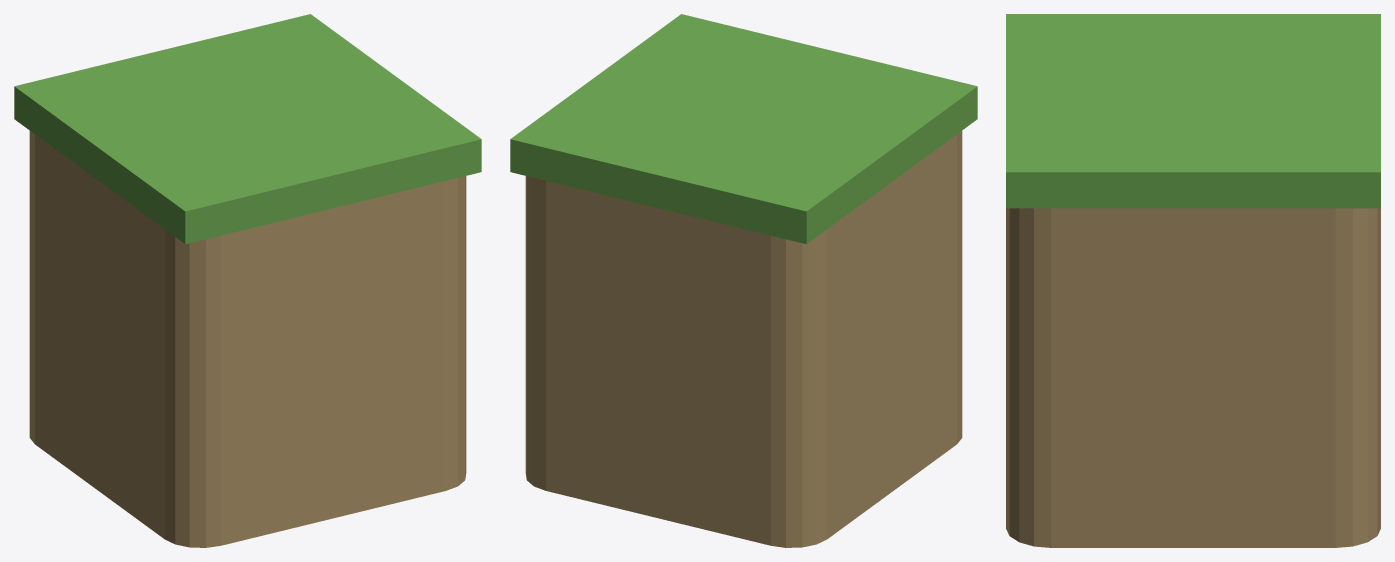
The model's file is DirtBlock.fbx.
The picture shows the model from 3 angles, left to right: view 1: azimuth 30°, elevation 25°; view 2: azimuth 150°, elevation 25°; view 3: azimuth 270°, elevation 25°; orthographic projection. The views are drawn at different scales.
Visible parts, largest first — view 1: Cube; view 2: Cube; view 3: Cube.
Part boxes in pixels (<box>): Cube: <box>14,14,481,547</box>; Cube: <box>510,14,977,547</box>; Cube: <box>1006,14,1380,547</box>.
Size of the model in its own units: 200 by 221 by 200.
